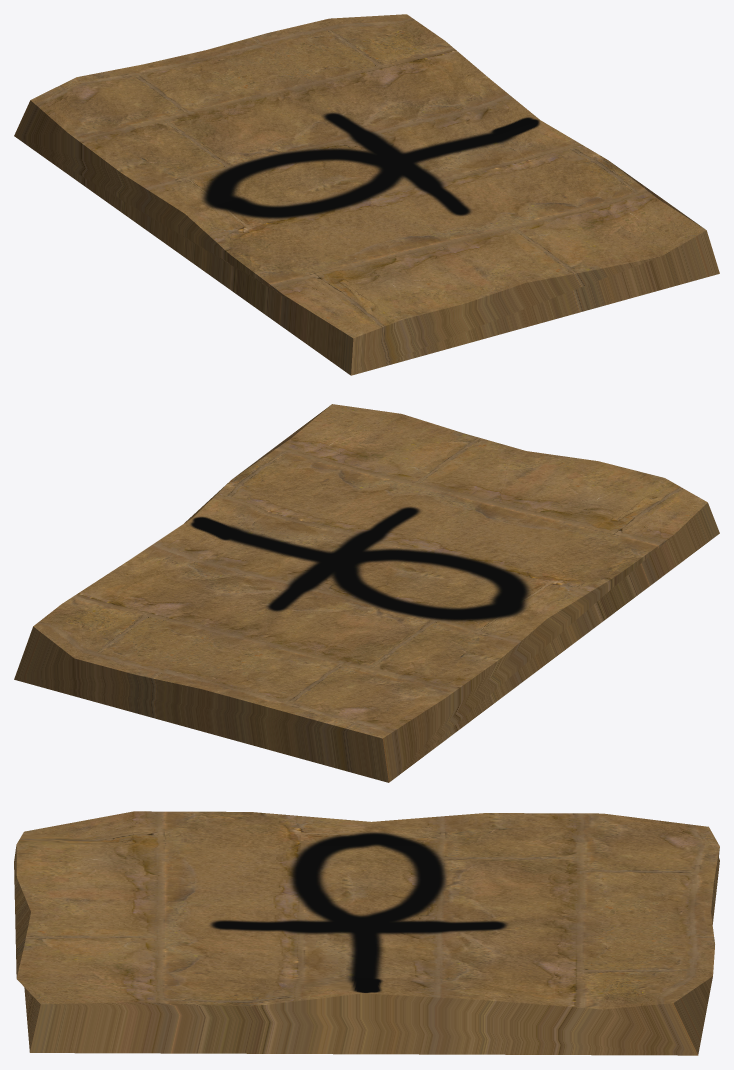
File: son (2).fbx
3 views of the same model, one above another, from view 1: azimuth 30°, elevation 25°; view 2: azimuth 150°, elevation 25°; view 3: azimuth 270°, elevation 25° (orthographic). The views are drawn at different scales.
Visible parts, largest first — view 1: Plane; view 2: Plane; view 3: Plane.
Part boxes in pixels (bbox=[...]): Plane: bbox=[14, 14, 719, 375]; Plane: bbox=[14, 404, 719, 782]; Plane: bbox=[14, 811, 719, 1055].
Bounding box in the file's own units: 157 × 19.63 × 233.
